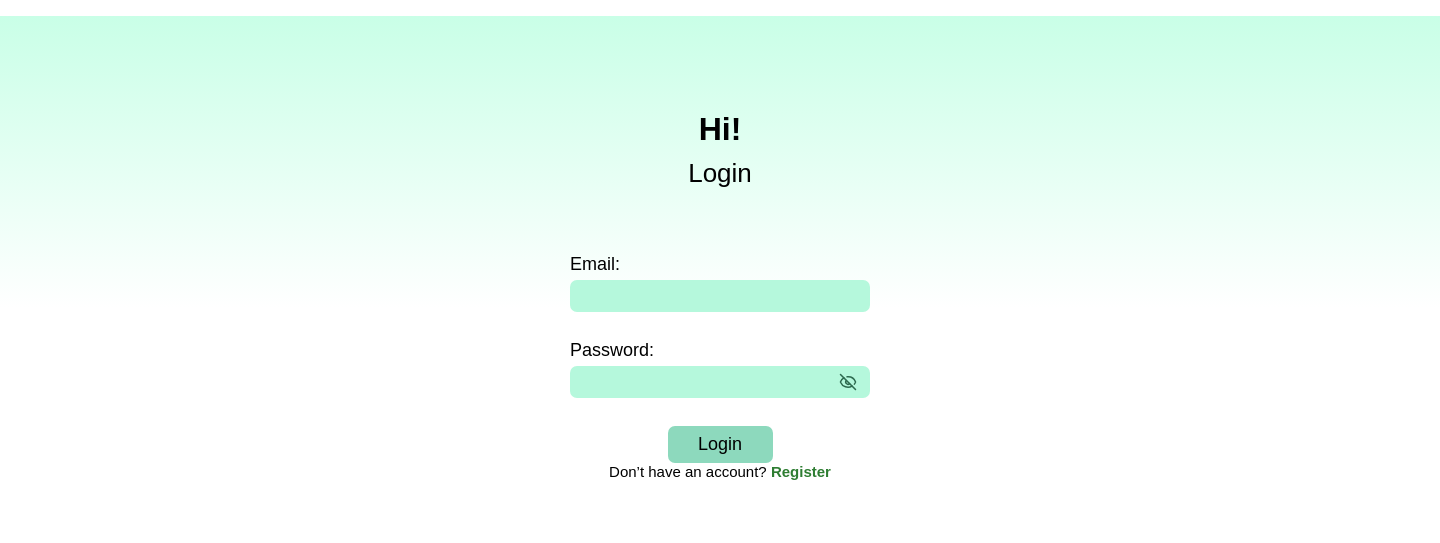
Test case: Login auth flow › shows validation when email or password is missing
What coordinates should you click on to do the following:
click the button "Login"
I would click on:
 (720, 444)
Its box is [668,426,772,463].
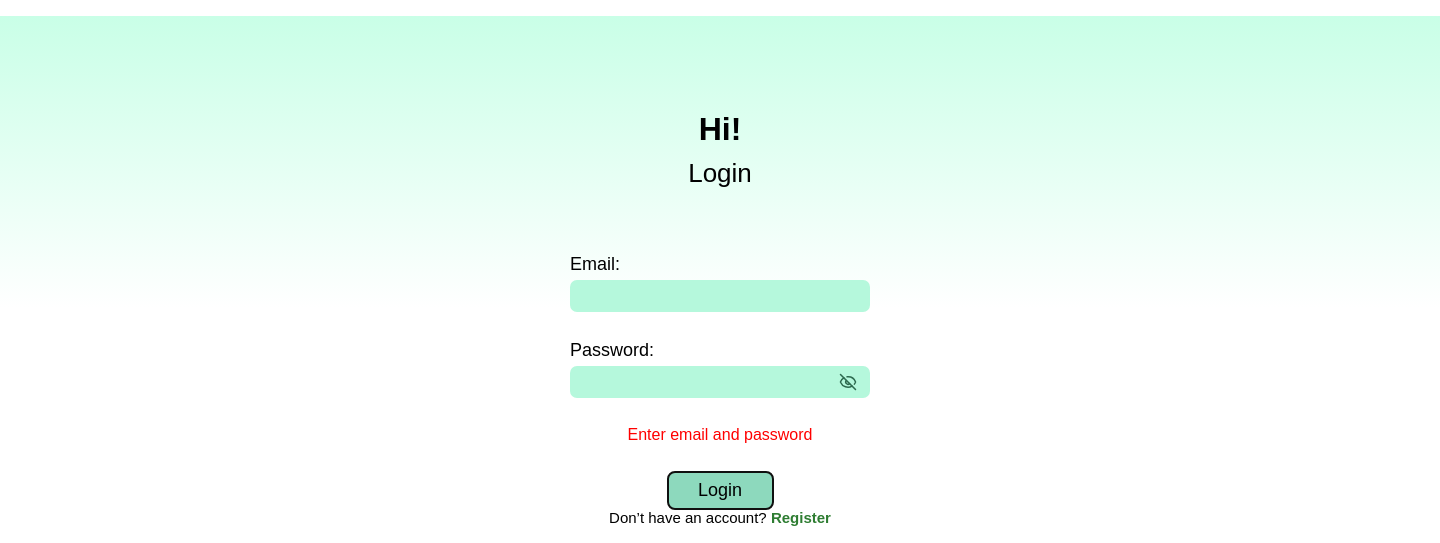
Result: the text "Enter email and password" is shown at [628,426,812,444]
